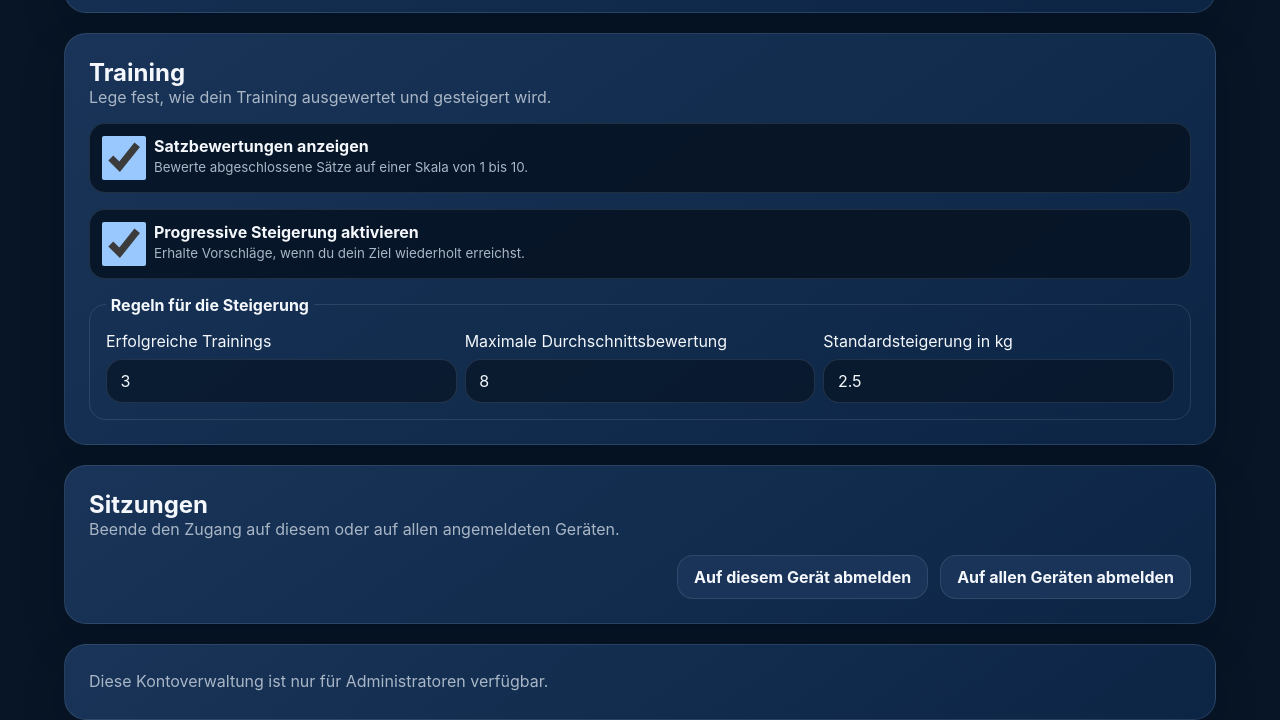
Test: SettingsPage › keeps an all-device sign-out error visible inside the critical dialog
(page scrolled)
Click the button "Auf allen Geräten abmelden": [1066, 577] box [940,555,1191,599]
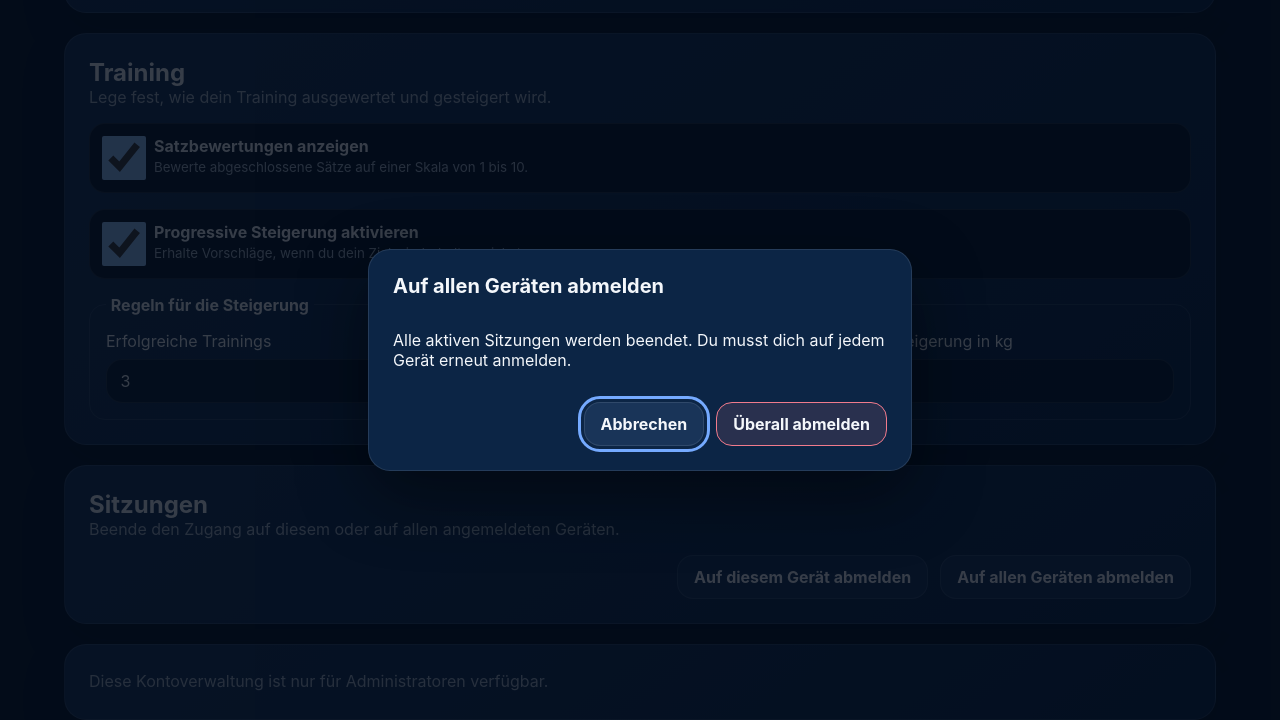
Click the button "Überall abmelden": [802, 424] box [716,402,887,446]
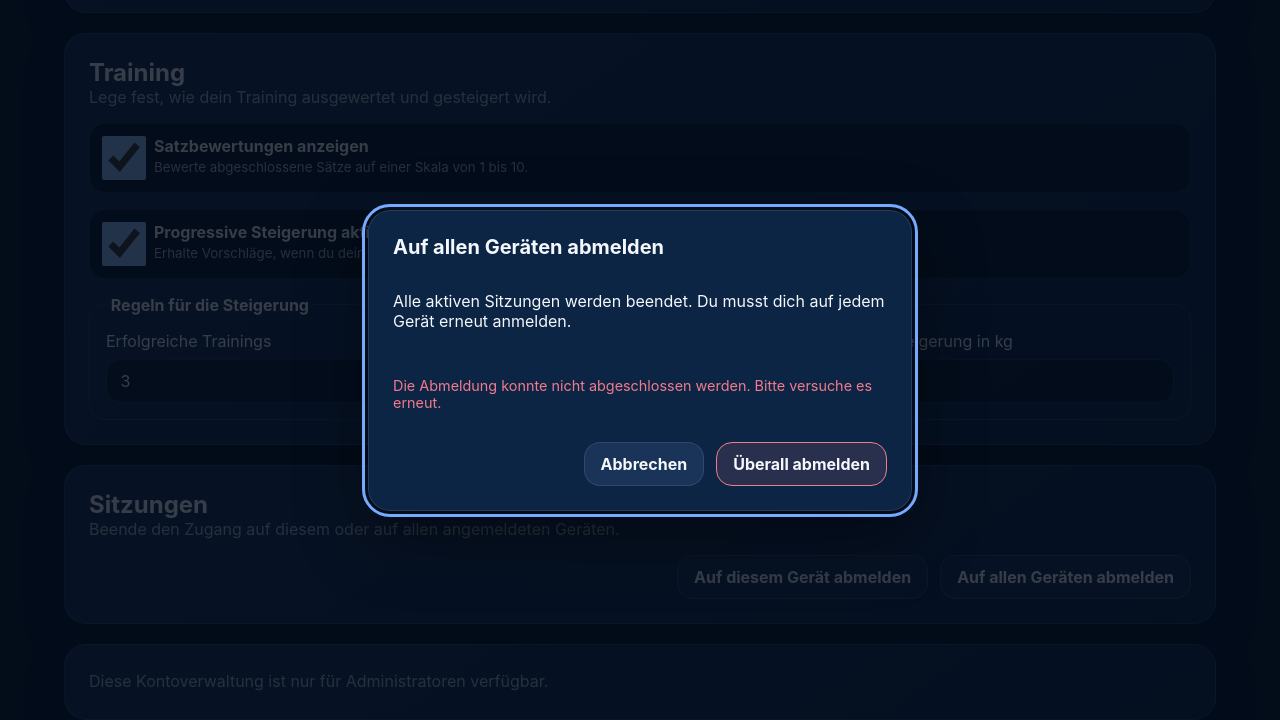
Expected: the message reads "Die Abmeldung konnte nicht abgeschlossen werden. Bitte versuche es erneut.", [393,377,872,411]
